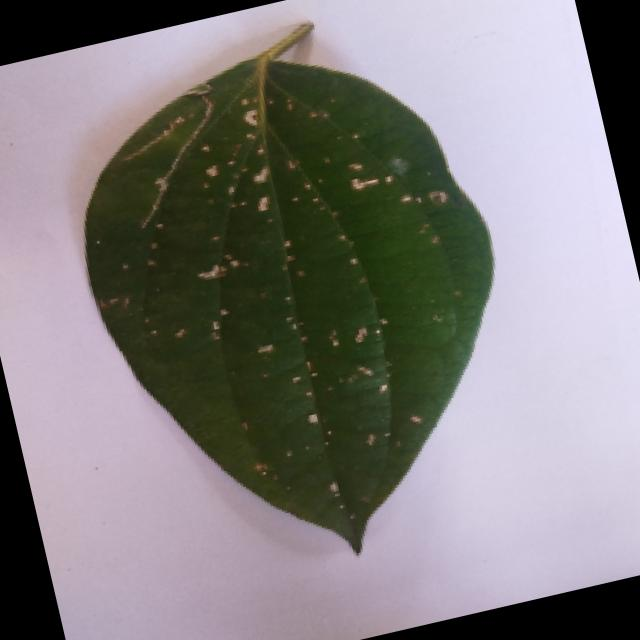pollu-disease: (27, 0, 558, 591)
